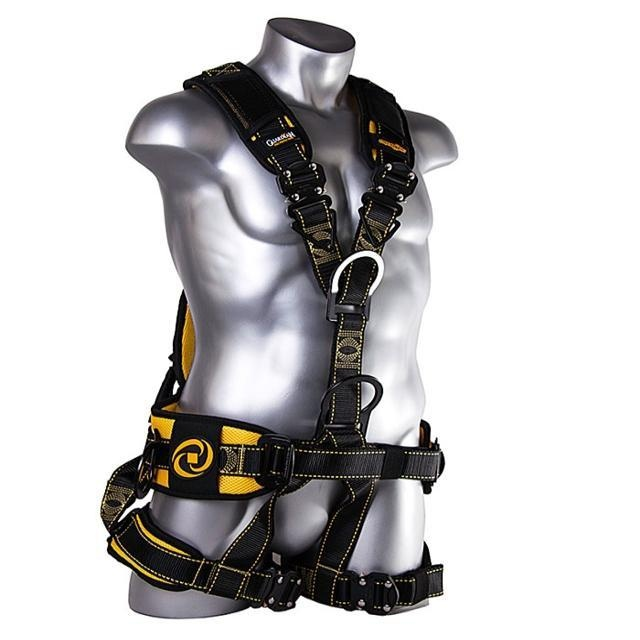Arnes_seguridad: (95, 65, 455, 613)
